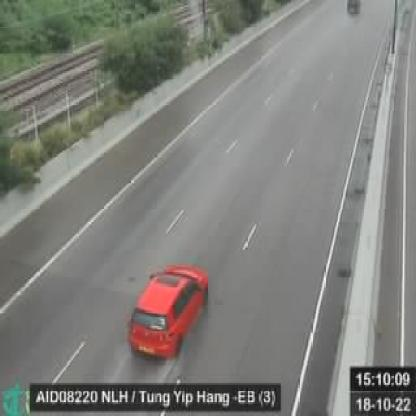Car: (127, 262, 212, 363), (346, 0, 362, 18)
